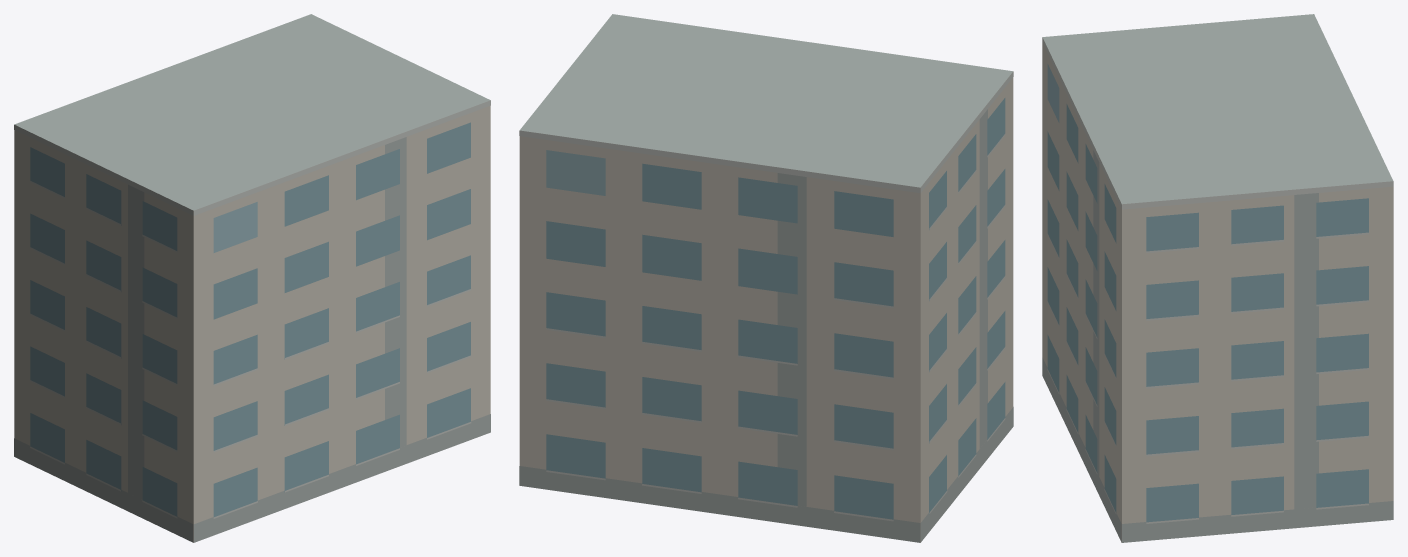
Rendered from residential-1a1c00e7-990a-4040-a696-ae77ee900591.glb.
The picture shows the model from 3 angles, left to right: view 1: azimuth 30°, elevation 25°; view 2: azimuth 150°, elevation 25°; view 3: azimuth 270°, elevation 25°; orthographic projection. The views are drawn at different scales.
Visible parts, largest first — view 1: residential-1a1c00e7-990a-4040-a696-ae77ee900591.tmp; view 2: residential-1a1c00e7-990a-4040-a696-ae77ee900591.tmp; view 3: residential-1a1c00e7-990a-4040-a696-ae77ee900591.tmp.
Part boxes in pixels (box(x1,y1,x2,y2)): residential-1a1c00e7-990a-4040-a696-ae77ee900591.tmp: box(14, 14, 490, 542); residential-1a1c00e7-990a-4040-a696-ae77ee900591.tmp: box(519, 14, 1013, 542); residential-1a1c00e7-990a-4040-a696-ae77ee900591.tmp: box(1042, 14, 1393, 542).
Size of the model in its own units: 18.38 by 15.25 by 14.34.
